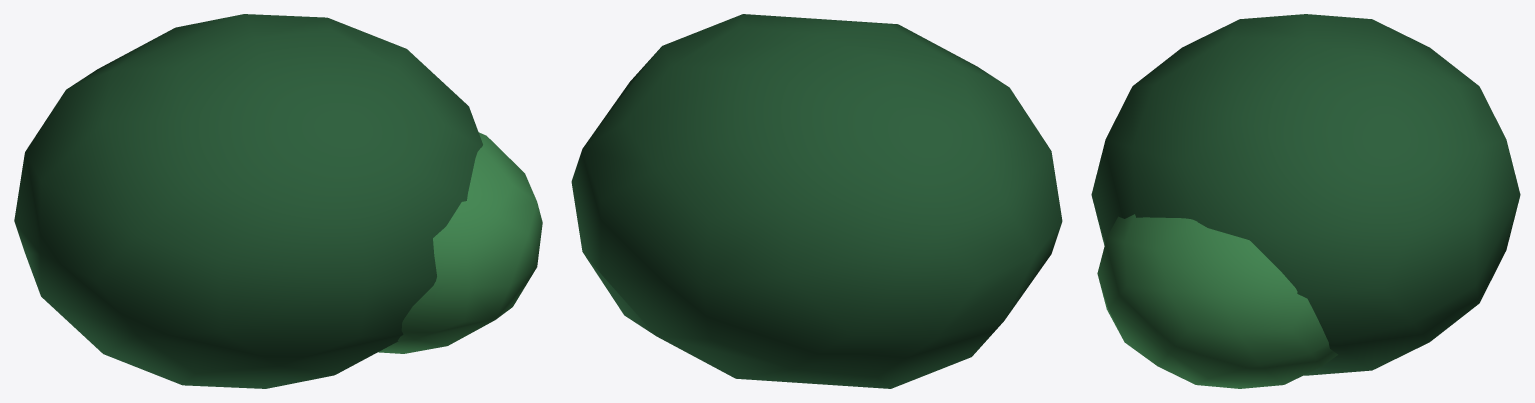
File: plant_bush.glb
3 renders of one model, left to right at view 1: azimuth 30°, elevation 25°; view 2: azimuth 150°, elevation 25°; view 3: azimuth 270°, elevation 25°, orthographic. The views are drawn at different scales.
Parts seen in each view (by area): view 1: Kenney_Plant_Bush; view 2: Kenney_Plant_Bush; view 3: Kenney_Plant_Bush.
Part boxes in pixels (left/top/right/bottom): Kenney_Plant_Bush: left=14, top=14, right=542, bottom=388; Kenney_Plant_Bush: left=571, top=14, right=1062, bottom=388; Kenney_Plant_Bush: left=1091, top=14, right=1520, bottom=388.
Size of the model in its own units: 1.5 by 1.04 by 1.3.
